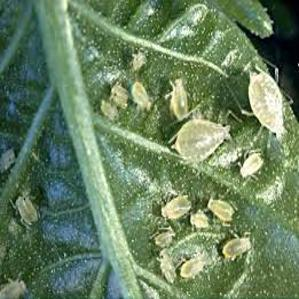Green peach aphid: (236, 52, 297, 151), (164, 109, 225, 167), (9, 183, 54, 234), (214, 229, 254, 269), (151, 190, 192, 228), (206, 186, 241, 230), (161, 78, 194, 123), (236, 145, 266, 189), (86, 93, 124, 127), (152, 249, 184, 289), (184, 249, 214, 286), (126, 77, 153, 117), (0, 272, 39, 299), (109, 74, 134, 116), (124, 45, 154, 78), (146, 224, 182, 249), (186, 201, 207, 232)
